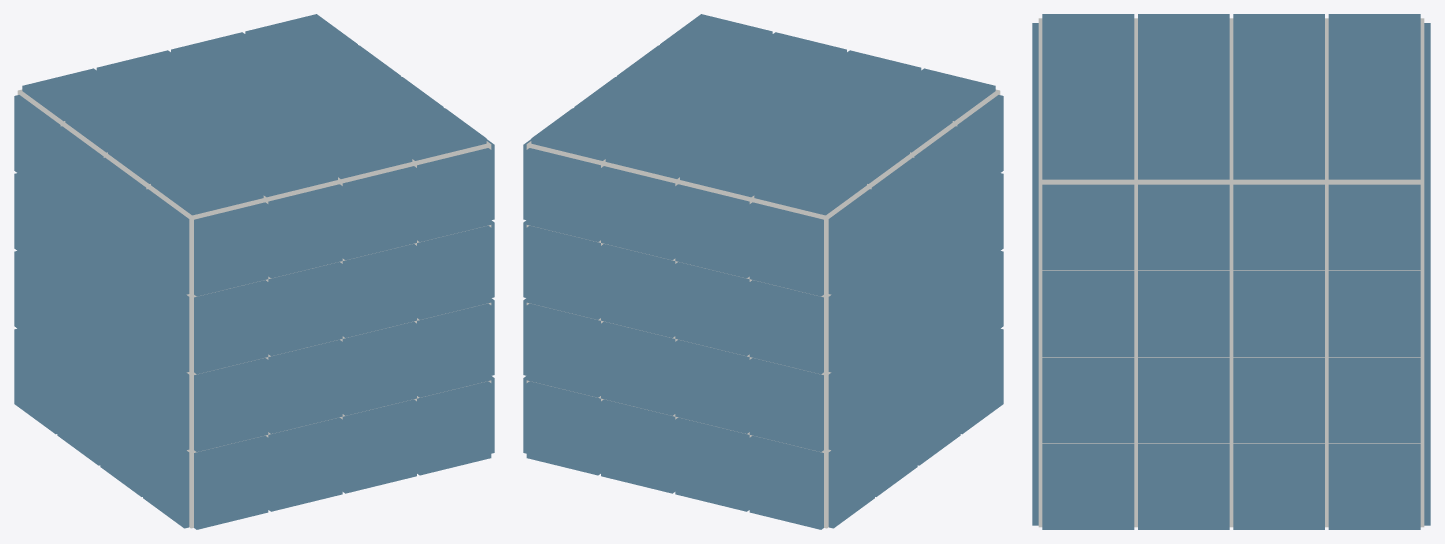
The model's file is mesa-cubo-ceramica.glb.
3 views of the same model, side by side, from view 1: azimuth 30°, elevation 25°; view 2: azimuth 150°, elevation 25°; view 3: azimuth 270°, elevation 25° (orthographic). The views are drawn at different scales.
Size of the model in its own units: 0.434 by 0.423 by 0.434.
